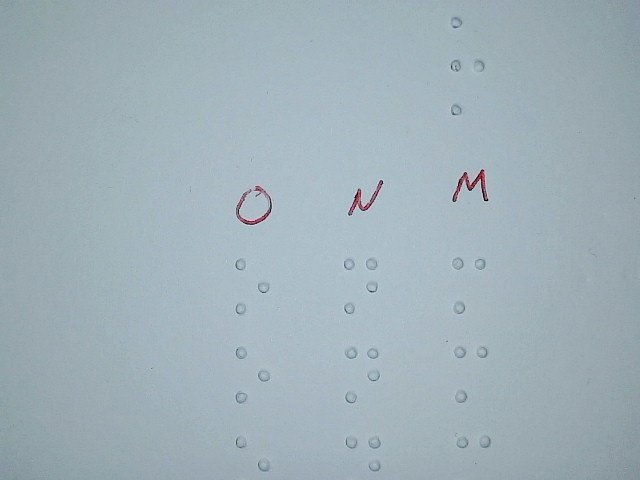M: (450, 254, 488, 316), (452, 343, 490, 405)
N: (341, 253, 379, 315), (344, 343, 382, 405)
O: (233, 256, 271, 318), (234, 343, 272, 405)
